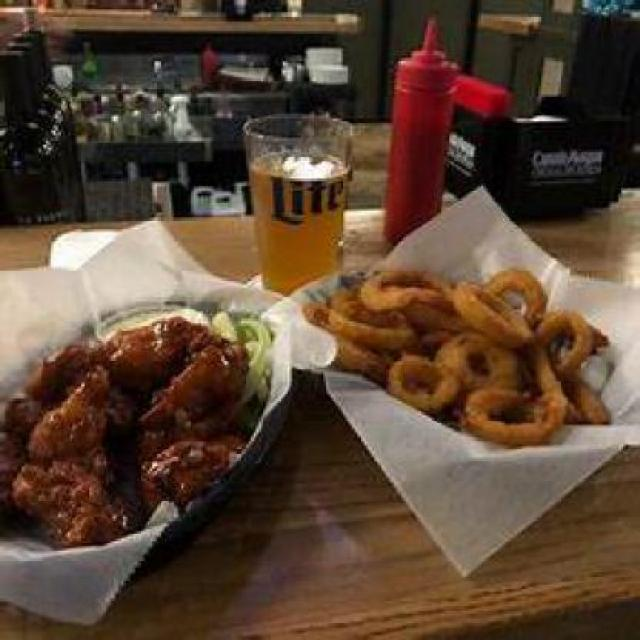onion rings: (294, 251, 620, 454)
